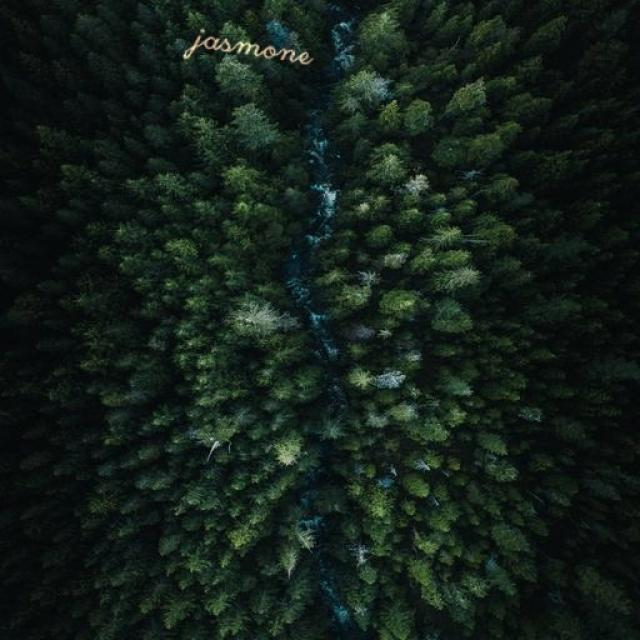watermark: (185, 19, 336, 70)
